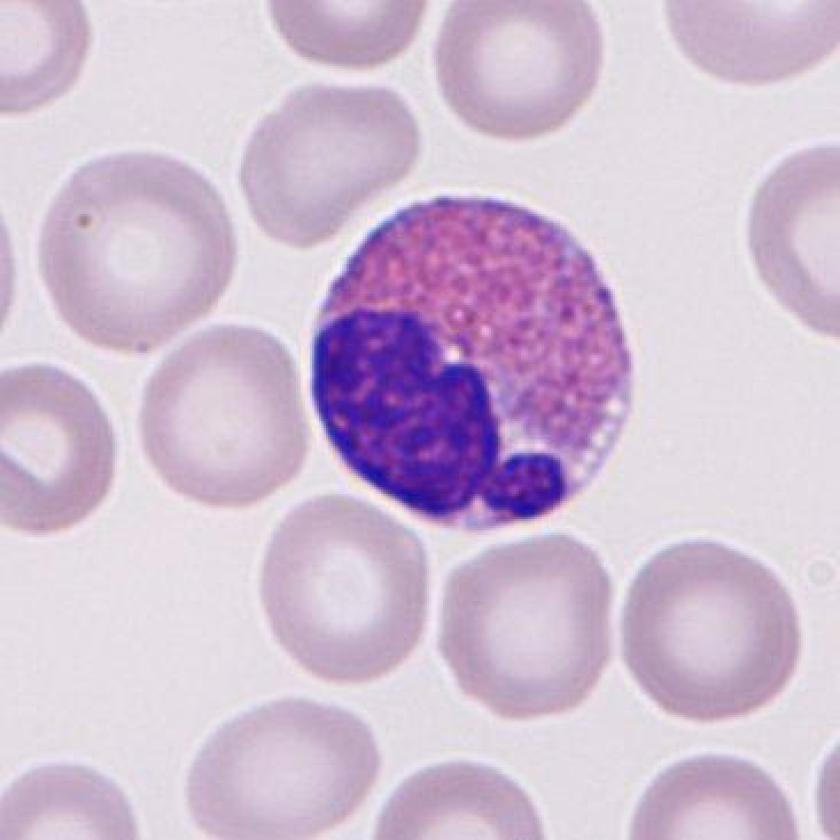eosinophil: (299, 176, 646, 536)
